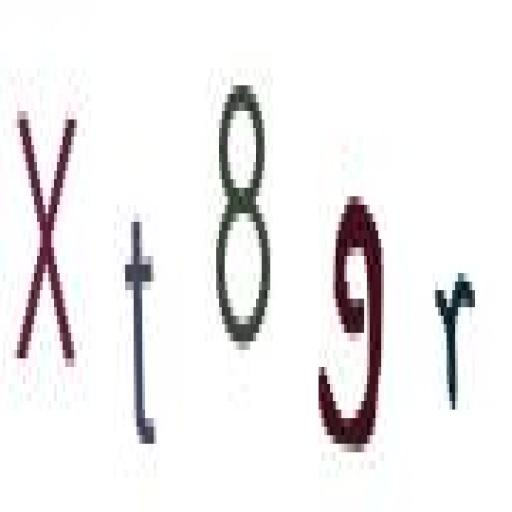8: (209, 68, 276, 362)
9: (320, 166, 396, 472)
X: (6, 92, 87, 383)
r: (430, 252, 480, 425)
t: (118, 211, 168, 468)
